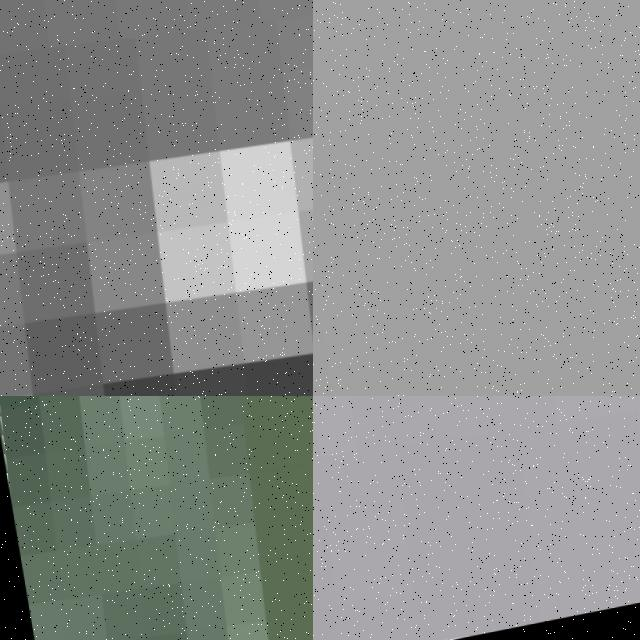drone: (0, 13, 313, 396), (313, 396, 640, 640), (0, 396, 313, 640)
